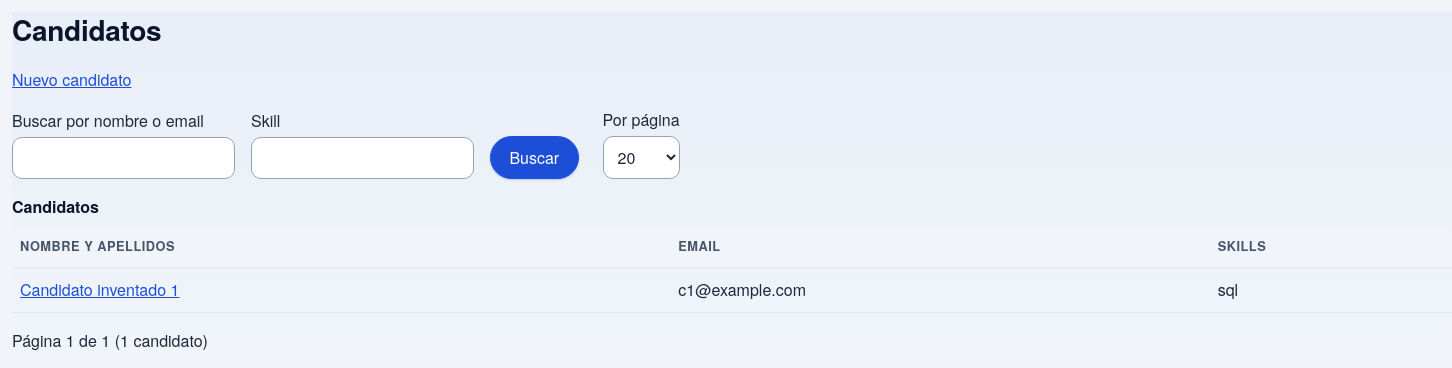
CandidateListScreen · filtros hostiles y fallos › EC-33 q «' OR 1=1 --» viaja codificada y no toca la URL, el history.state ni el título
This screenshot has width=1452, height=368.
Expected: the table "Candidatos" is shown, top-left (12, 195), bottom-right (1451, 313)
Type "' OR 1=1 --" into the search field labelled "Buscar por nombre o email".
click(124, 158); type("' OR 1=1 --")  # box top-left (12, 137), bottom-right (235, 179)
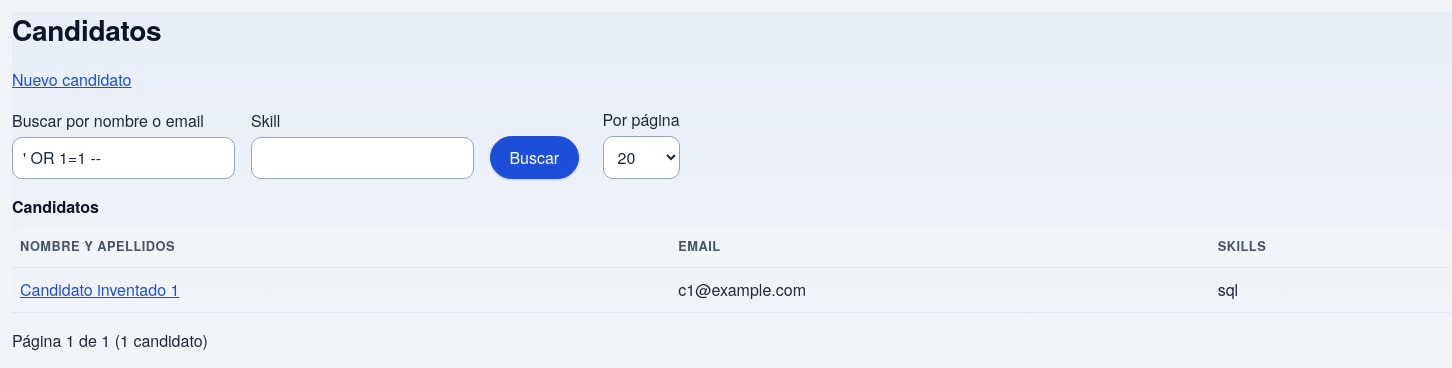
Click the button "Buscar".
click(534, 158)  # box top-left (490, 136), bottom-right (579, 179)
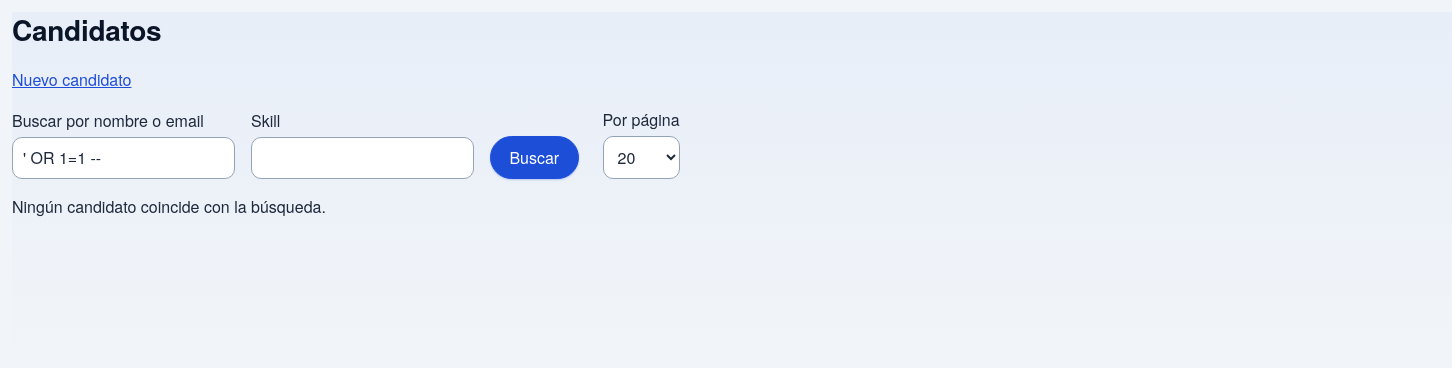
Result: the text "Ningún candidato coincide con la búsqueda." is shown at top-left (12, 195), bottom-right (326, 218)
